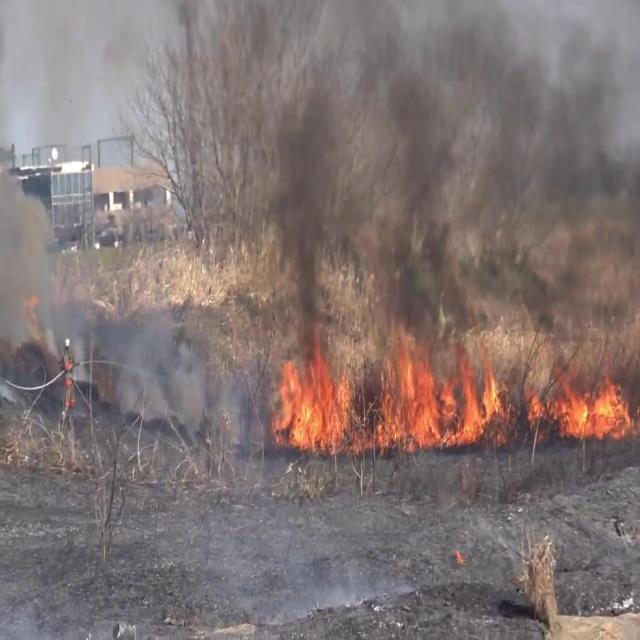Fire: (372, 336, 508, 452), (268, 340, 358, 454), (535, 371, 638, 444)
Smoke: (226, 0, 640, 348), (0, 1, 79, 362), (98, 290, 204, 440)
